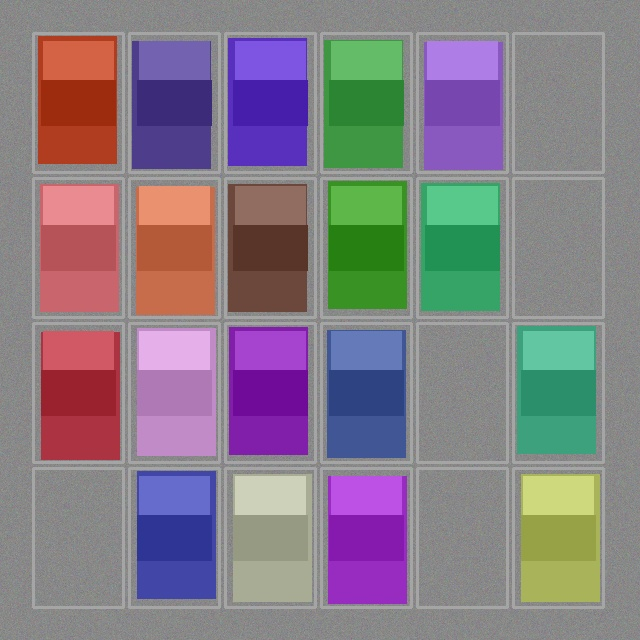space-empty: (515, 35, 601, 170), (515, 180, 601, 315), (419, 325, 505, 460), (35, 470, 121, 605), (419, 470, 505, 605)
space-occupied: (35, 35, 121, 170), (131, 35, 217, 170), (227, 35, 313, 170), (323, 35, 409, 170), (419, 35, 505, 170), (35, 180, 121, 315), (131, 180, 217, 315), (227, 180, 313, 315), (323, 180, 409, 315), (419, 180, 505, 315), (35, 325, 121, 460), (131, 325, 217, 460), (227, 325, 313, 460), (323, 325, 409, 460), (515, 325, 601, 460), (131, 470, 217, 605), (227, 470, 313, 605), (323, 470, 409, 605), (515, 470, 601, 605)
